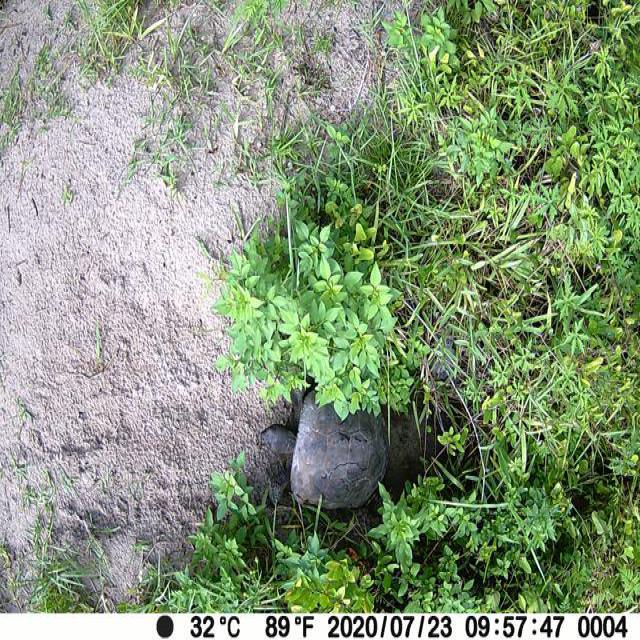tortoise: (259, 380, 388, 510)
